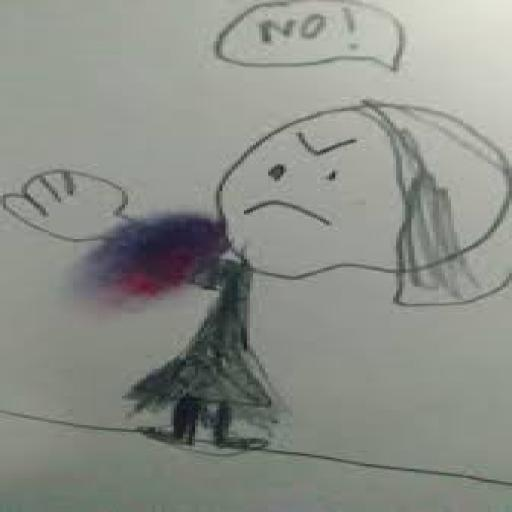person: (0, 100, 512, 464)
